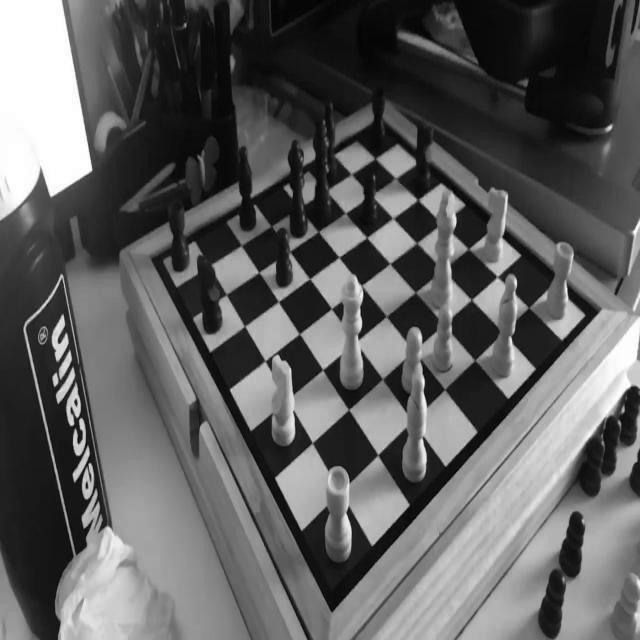chess-table-corners: (315, 576, 345, 627), (581, 292, 611, 320), (144, 238, 160, 278), (372, 105, 386, 131)
